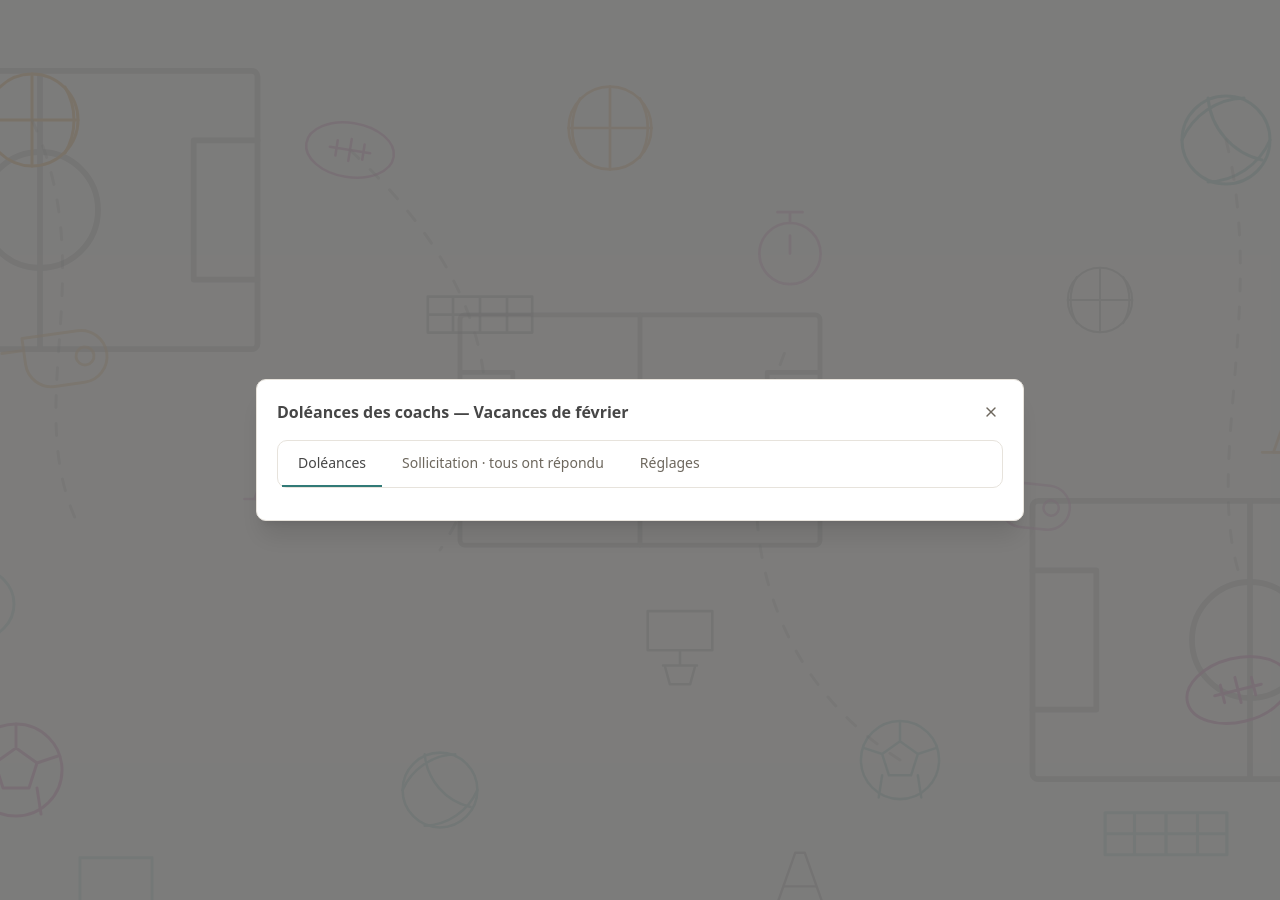
Scenario: CoachWishesHub › montre, marque et décoche une équipe sélectionnée qui n'a plus de coach
Click the tab "Réglages" at (670, 464), box [624,441,716,487]
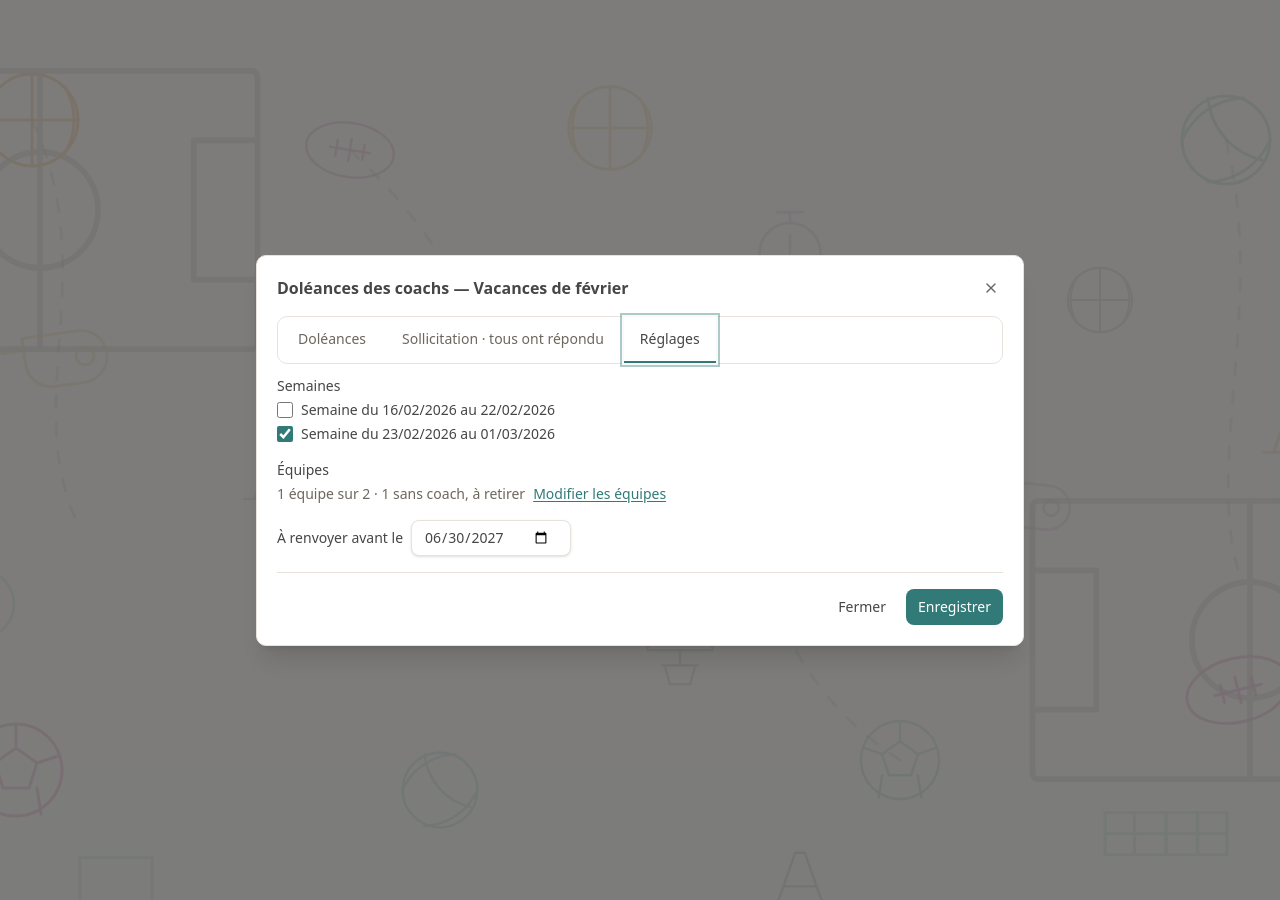
Click the button "Modifier les équipes" at (600, 494), box [533,484,666,504]
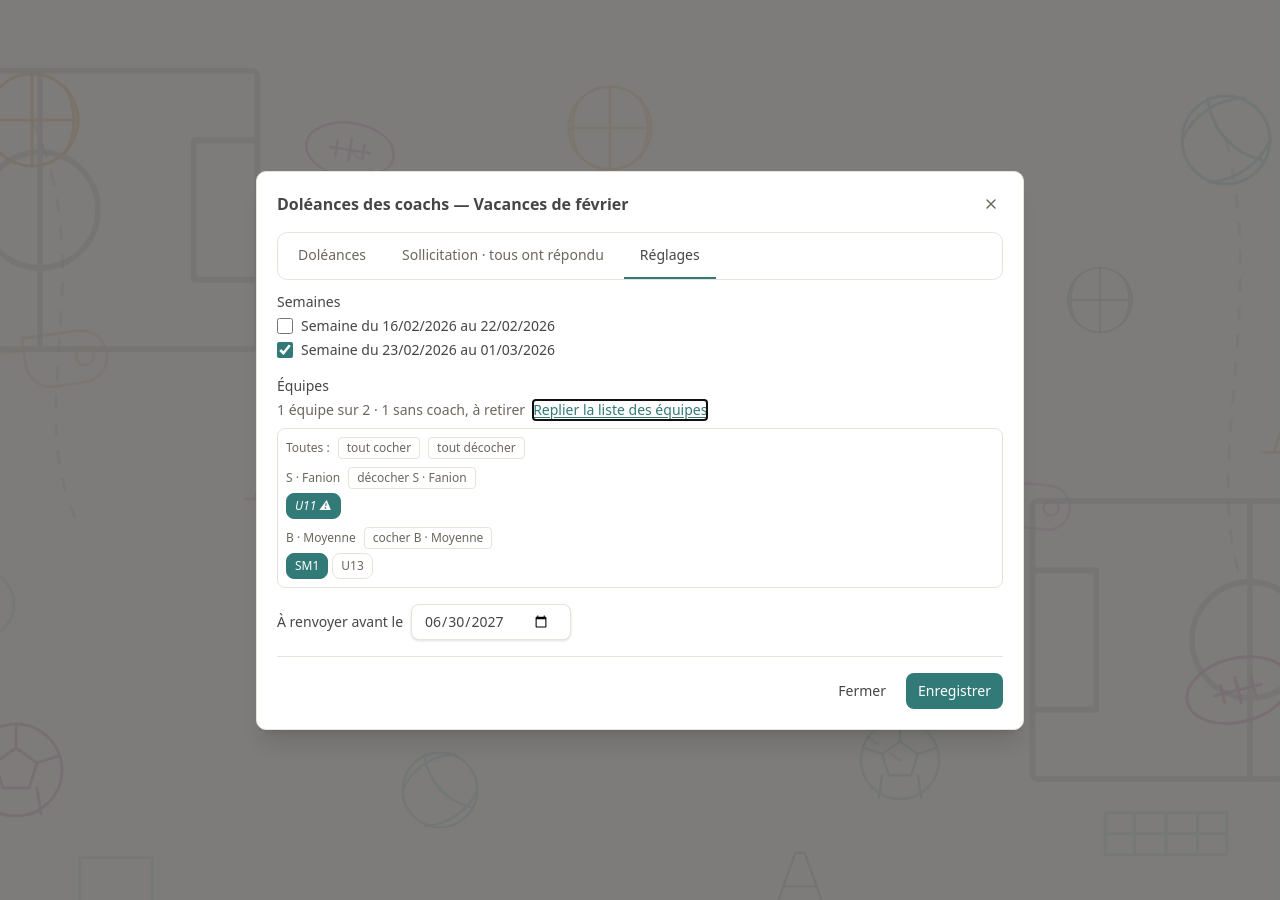
Click the button "tout décocher" at (476, 448), box [428,436,525,458]
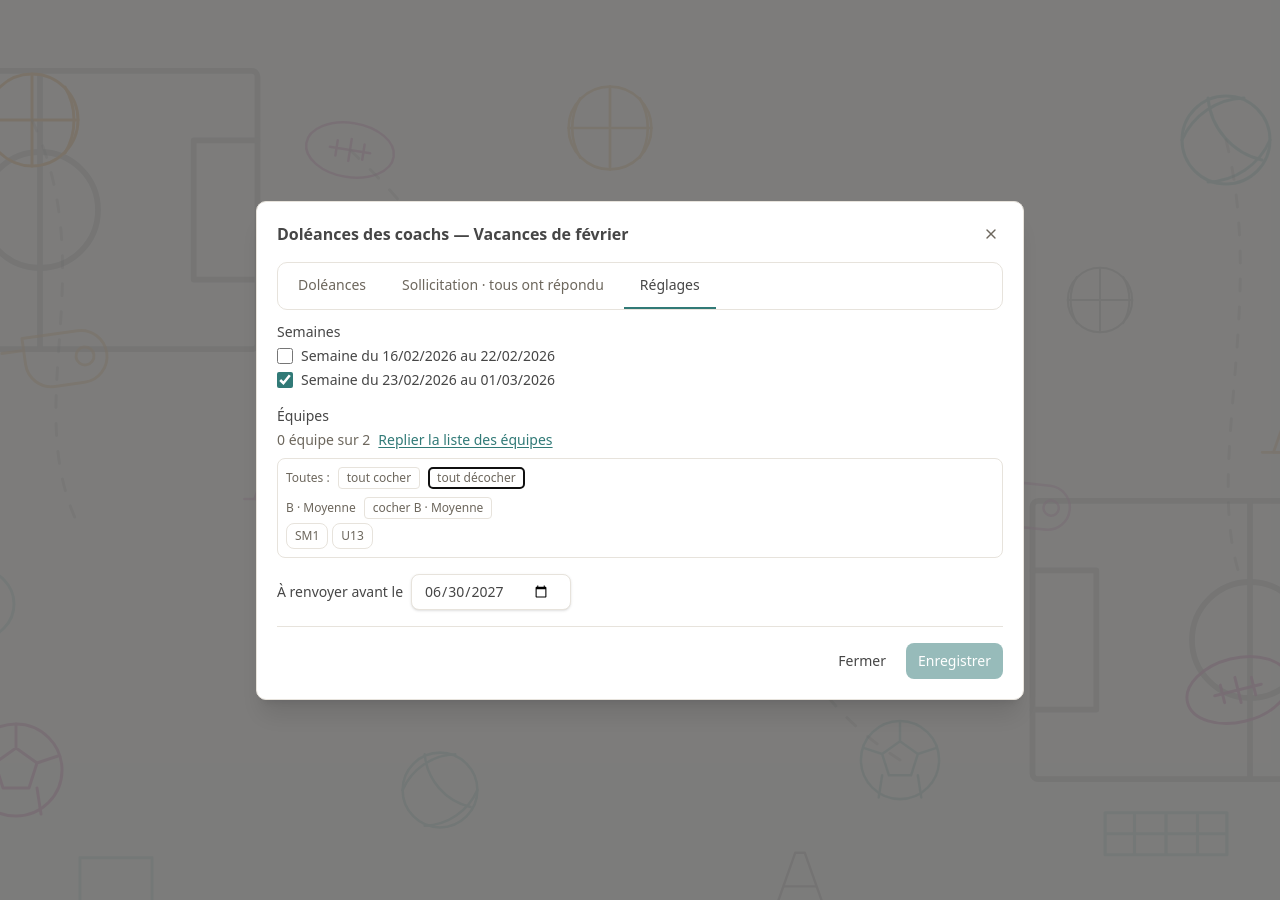
Check: the button "Enregistrer" is disabled, box [906,642,1003,678]
